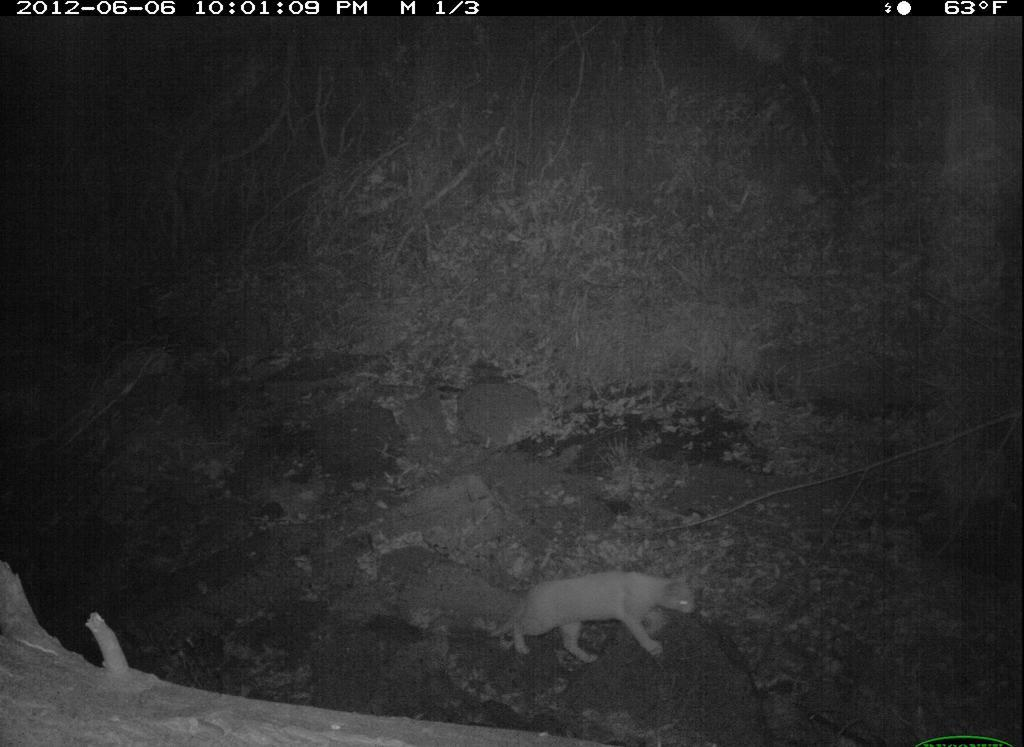cat: (478, 556, 711, 666)
